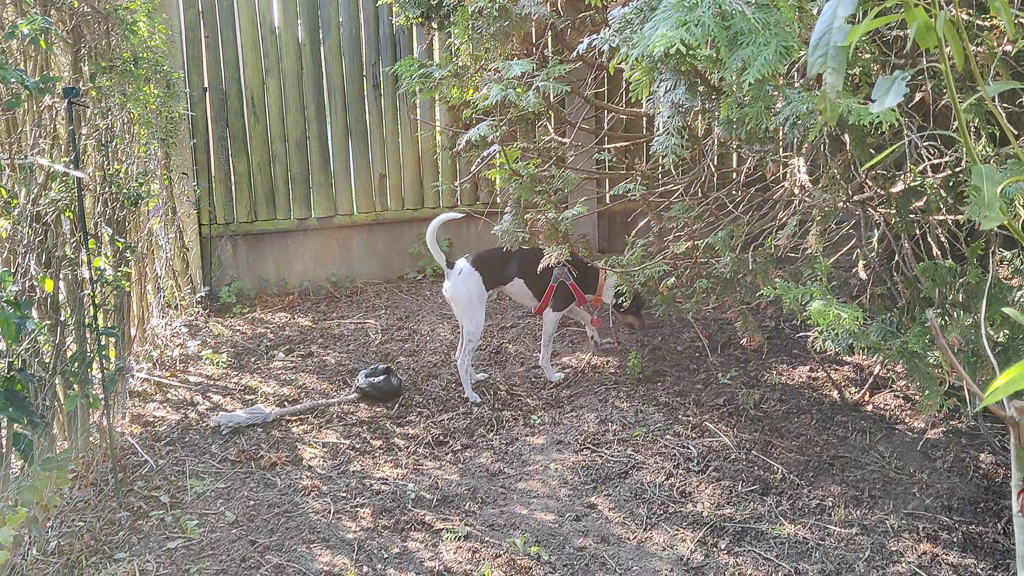Dog: (413, 199, 669, 415)
